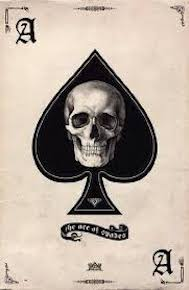AceOfSpades: (1, 3, 188, 286)
